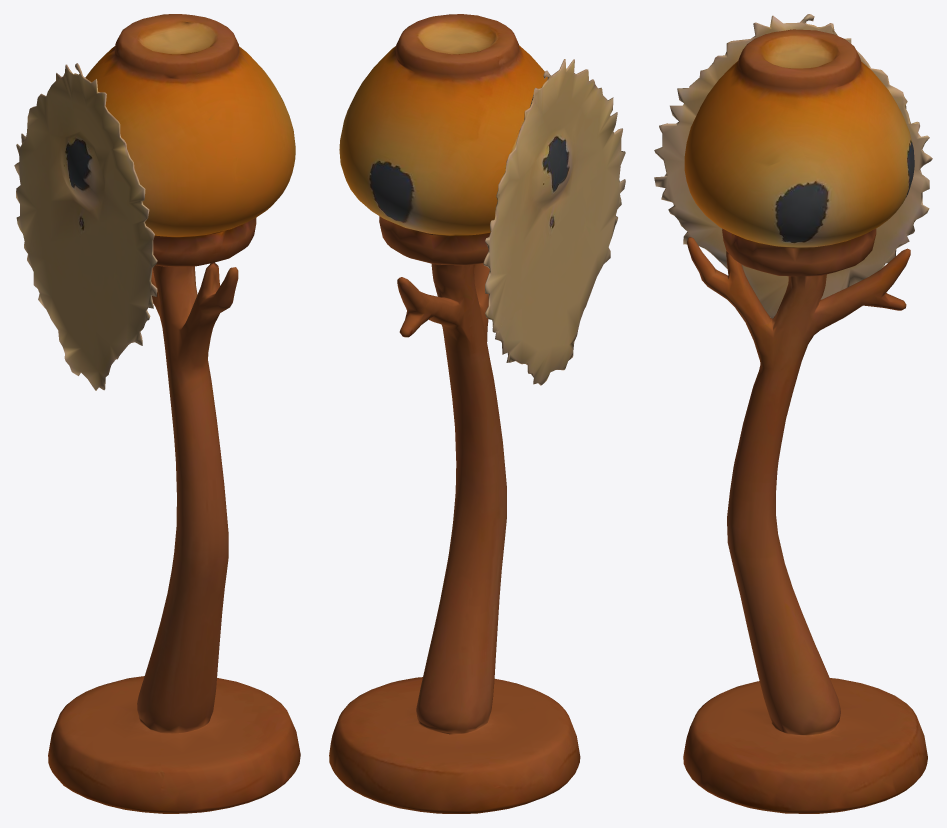
Rendered from lampe_wald_a.glb.
The picture shows the model from 3 angles, left to right: view 1: azimuth 30°, elevation 25°; view 2: azimuth 150°, elevation 25°; view 3: azimuth 270°, elevation 25°; orthographic projection. The views are drawn at different scales.
Parts seen in each view (by area): view 1: tripo_node_cad4b935-fadf-4166-af1d-24b532b4c21e; view 2: tripo_node_cad4b935-fadf-4166-af1d-24b532b4c21e; view 3: tripo_node_cad4b935-fadf-4166-af1d-24b532b4c21e.
Boxes of the visible parts, left/top/right/bottom form: tripo_node_cad4b935-fadf-4166-af1d-24b532b4c21e: left=14, top=14, right=300, bottom=813; tripo_node_cad4b935-fadf-4166-af1d-24b532b4c21e: left=329, top=14, right=625, bottom=813; tripo_node_cad4b935-fadf-4166-af1d-24b532b4c21e: left=654, top=14, right=932, bottom=813.
Bounding box in the file's own units: 0.1569 × 0.4999 × 0.1763.
1 material, 1 textured.
